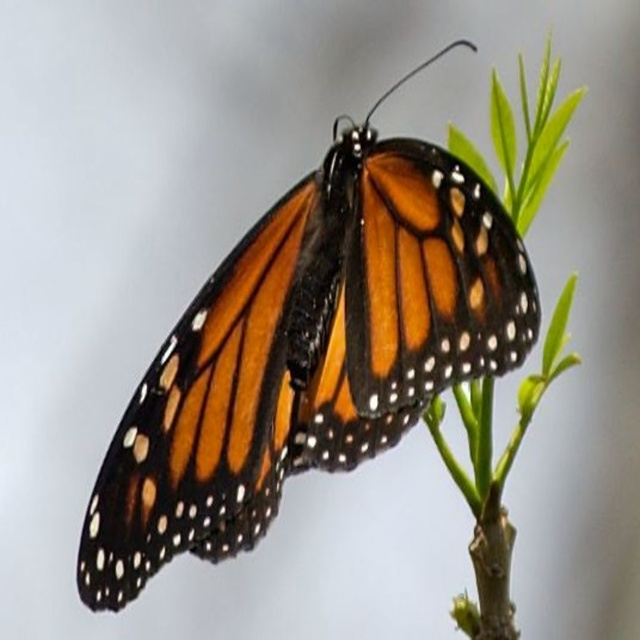Moths and butterflies: (73, 34, 543, 616)
